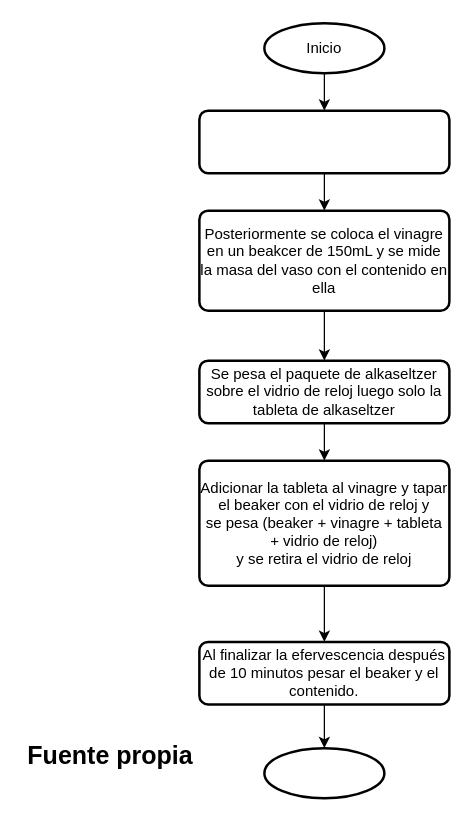
The diagram is 471 pixels wide and 820 high, and some of its shapes have lost their labels. The box of each missing label's shape, as (x1, y1, x2, y2) in pixels:
Fin: (262, 746, 385, 799)
Se mediran 40mL de vinagre en una probeta: (198, 109, 450, 174)
